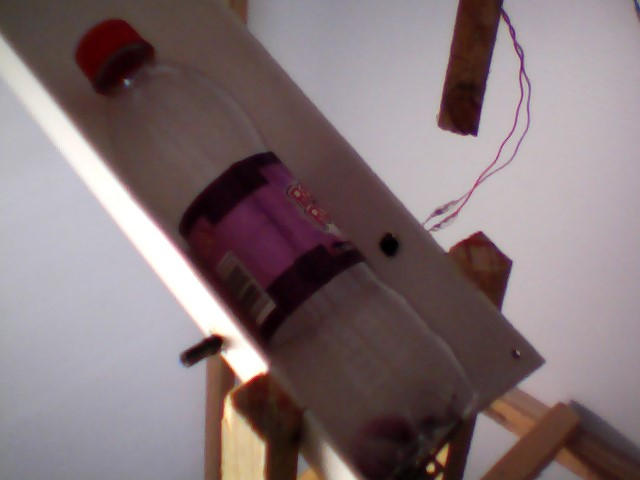plastico: (71, 3, 487, 480)
